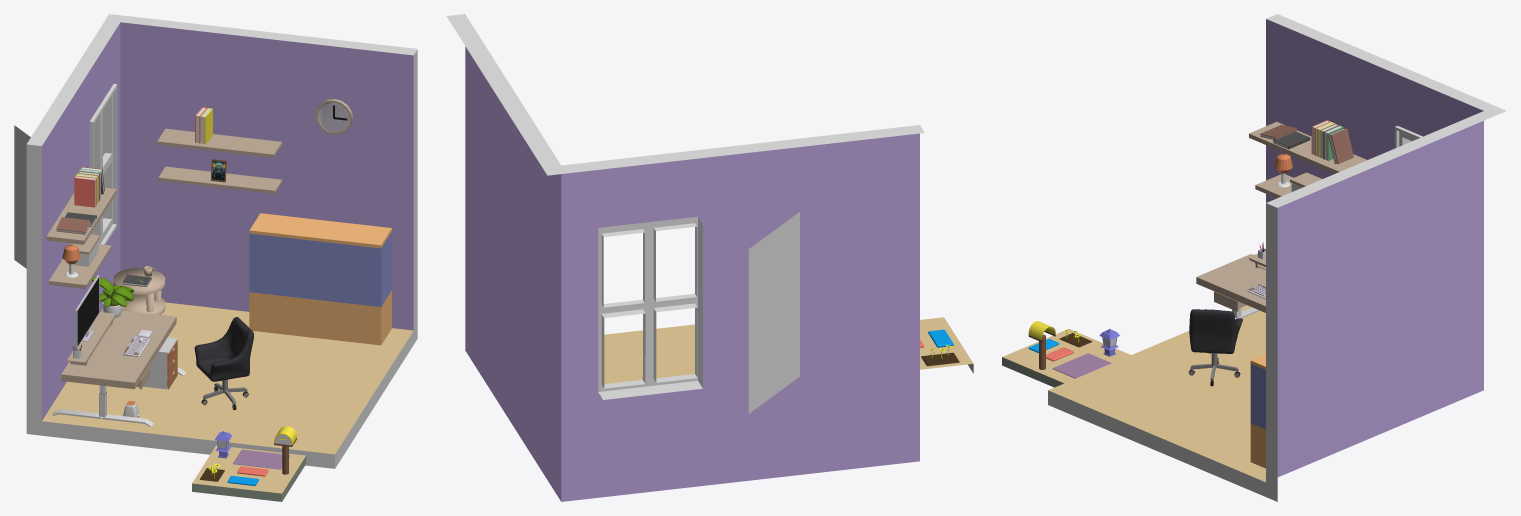
Rendered from Room.glb.
The picture shows the model from 3 angles, left to right: view 1: azimuth 30°, elevation 25°; view 2: azimuth 150°, elevation 25°; view 3: azimuth 270°, elevation 25°; orthographic projection. The views are drawn at different scales.
Visible parts, largest first — view 1: SceneWalls, Cube.094, AquaGlass, Table Top, SceneWalls.001, Cylinder.004, Table Top.007, Table Top.016, Table Top.005, Cylinder.005, Plane.014, Table Top.017 (+7 smaller); view 2: SceneWalls, Plane.014, SceneWalls.001; view 3: SceneWalls, Table Top.007, Cylinder.004, SceneWalls.001, Table Top, Table Top.005, AquaGlass, Cube.094, Plane.013.
Boxes of the visible parts, x1,y1,x2,y2 form: SceneWalls: (26,14,417,468); Cube.094: (249,213,391,345); AquaGlass: (249,232,391,306); Table Top: (61,309,176,389); SceneWalls.001: (192,445,306,501); Cylinder.004: (194,317,253,409); Table Top.007: (46,166,116,244); Table Top.016: (157,107,282,157); Table Top.005: (49,234,111,288); Cylinder.005: (113,266,165,314); Plane.014: (14,125,30,268); Table Top.017: (158,166,282,193); SceneWalls: (446,14,924,501); Plane.014: (748,212,799,413); SceneWalls.001: (920,317,973,373); SceneWalls: (1048,14,1506,501); Table Top.007: (1249,120,1367,173); Cylinder.004: (1188,309,1242,386); SceneWalls.001: (1002,329,1130,387); Table Top: (1196,254,1265,312); Table Top.005: (1255,153,1322,198); AquaGlass: (1250,364,1265,429); Cube.094: (1250,354,1265,468); Plane.013: (1052,353,1111,378).
Bounding box in the file's own units: 21.41 × 15.14 × 23.56.
Materials: 44 (1 with a texture image).
